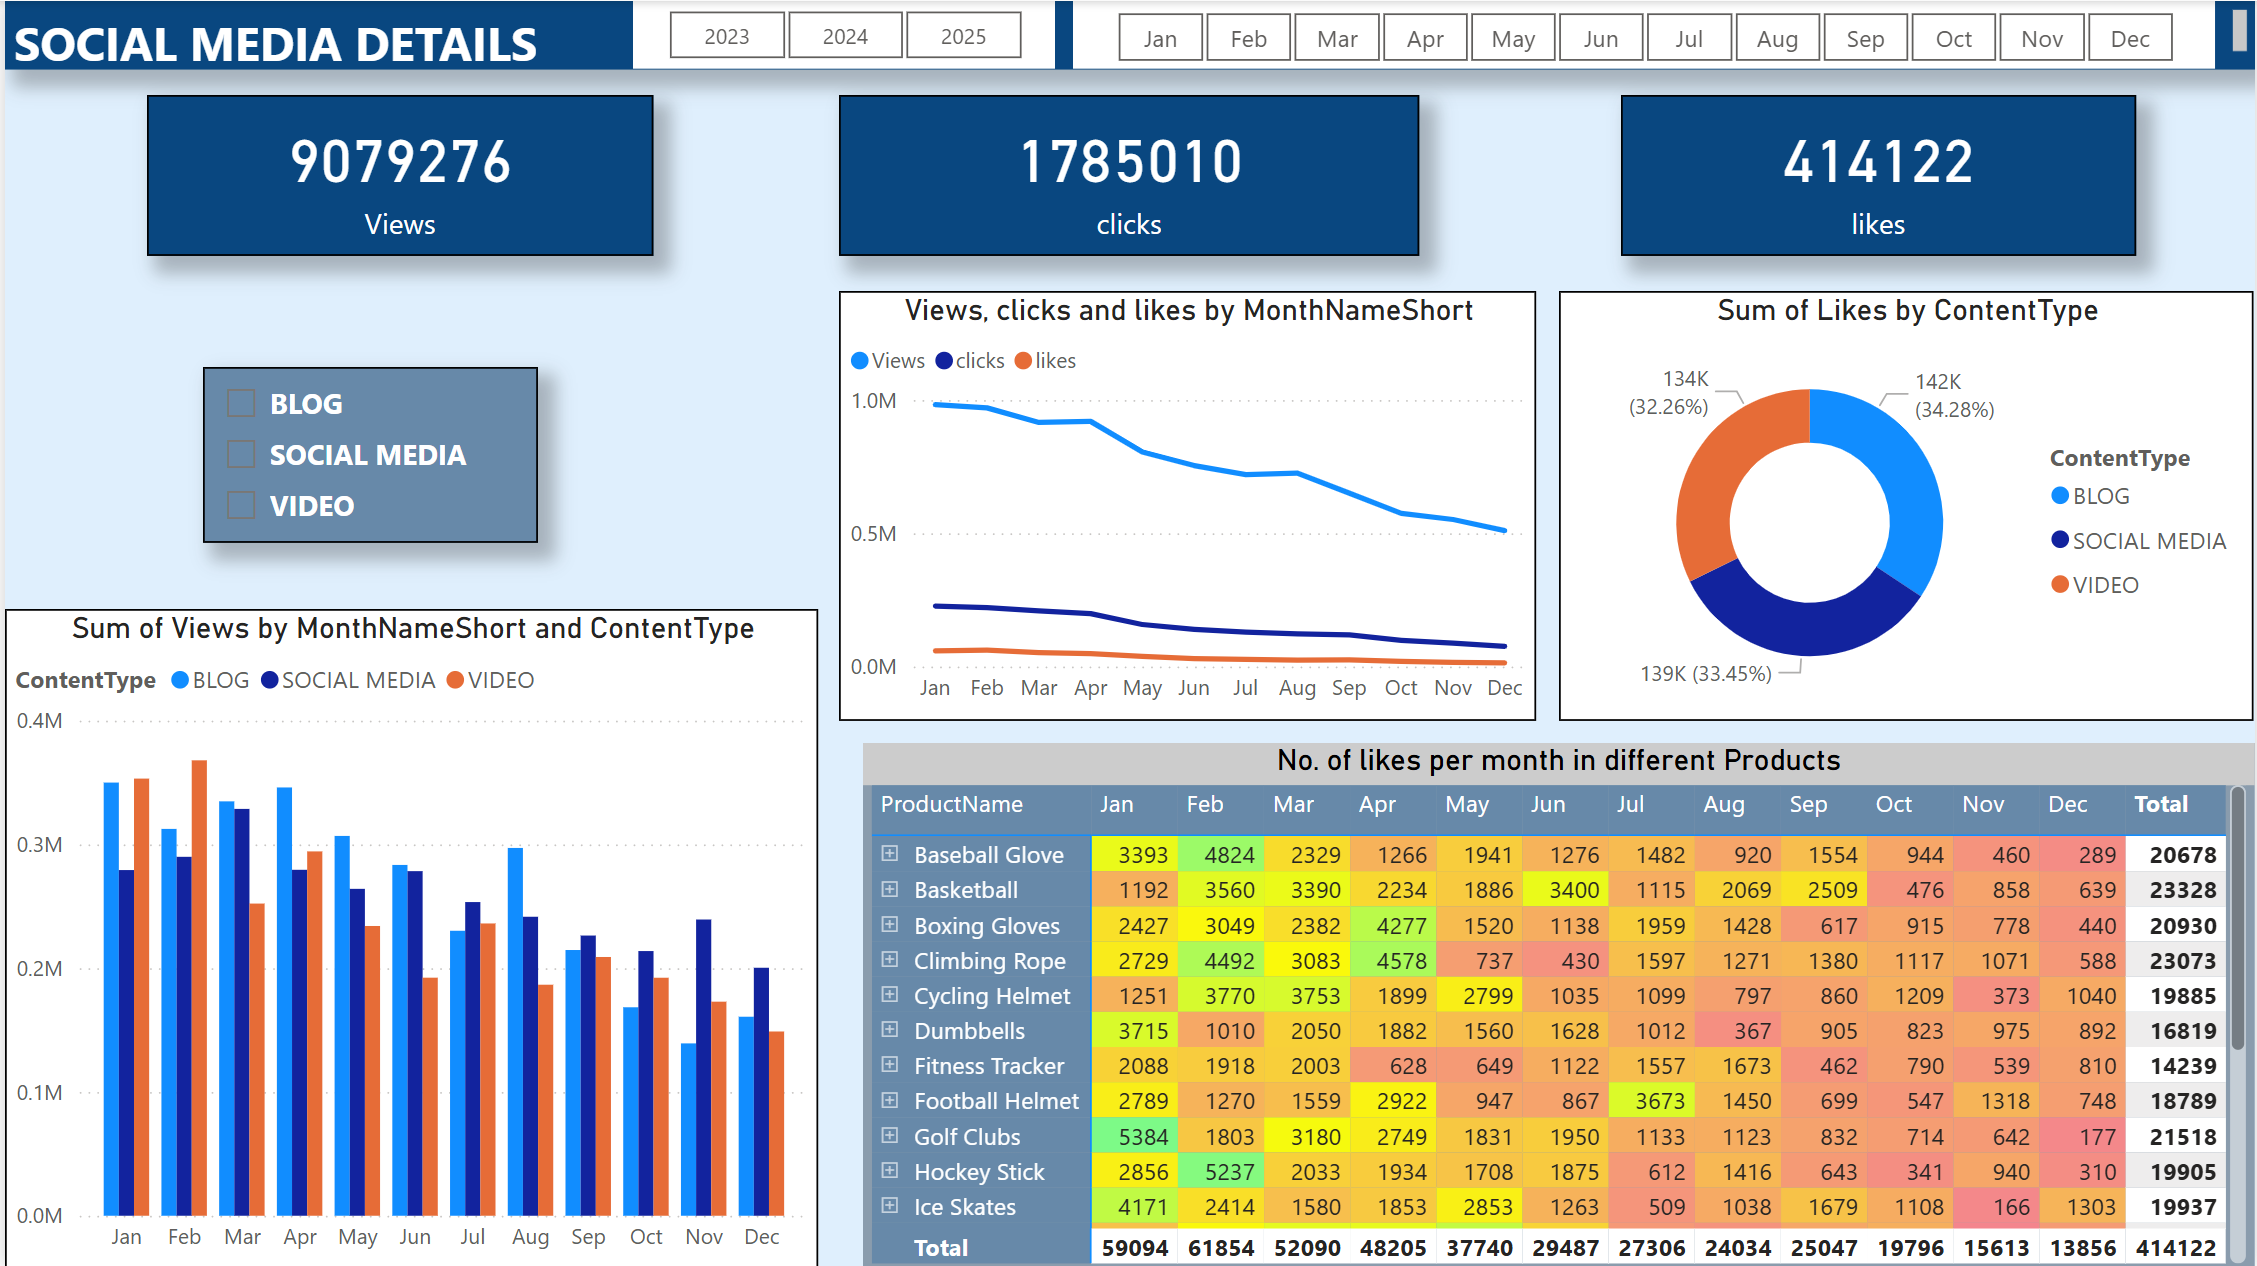

The dashboard page shown, as its layout file describes it:
{"tool":"powerbi","page":{"name":"SocialMedia Details","canvas":[1280,720],"ordinal":2},"visuals":[{"type":"textbox","box":[0,0,1280,38.8],"z":0},{"type":"slicer","fields":{"Values":["Fact_engagement_data.ContentType"]},"box":[112,208.4,190.4,100],"z":1000},{"type":"card","fields":{"Values":["Calcultions_Measures.Views"]},"box":[80.7,53,288,91.6],"z":2000},{"type":"card","fields":{"Values":["Calcultions_Measures.clicks"]},"box":[474.7,53,330.1,91.6],"z":3000},{"type":"card","fields":{"Values":["Calcultions_Measures.likes"]},"box":[919.3,53,292.8,91.6],"z":4000},{"type":"slicer","fields":{"Values":["Calendar.Year"]},"box":[356.6,0,239.8,38.6],"z":5000},{"type":"slicer","fields":{"Values":["Calendar.MonthNameShort"]},"box":[607.2,0,649.4,38.6],"z":6000},{"type":"clusteredColumnChart","fields":{"Series":["Fact_engagement_data.ContentType"],"Category":["Calendar.MonthNameShort"],"Y":["Sum(Fact_engagement_data.Views)"]},"box":[0,345.8,462.7,375.9],"z":7000},{"type":"pivotTable","title":"No. of likes per month in different Products","fields":{"Rows":["dim_products.ProductName","Fact_engagement_data.ContentType"],"Columns":["Calendar.MonthNameShort"],"Values":["Sum(Fact_engagement_data.Likes)"]},"box":[488,421.7,791.6,301.2],"z":8000},{"type":"donutChart","fields":{"Category":["Fact_engagement_data.ContentType"],"Y":["Sum(Fact_engagement_data.Likes)"]},"box":[884.3,165.1,395.2,244.6],"z":9000},{"type":"lineChart","fields":{"Y":["Calcultions_Measures.Views","Calcultions_Measures.clicks","Calcultions_Measures.likes"],"Category":["Calendar.MonthNameShort"]},"box":[474.7,165.1,396.4,244.6],"z":10000}]}

Visuals, with their boxes in screenshot pixels (x1, y1, x2, y2), scaled from the page's 1280x720 canvas onto the 2257x1266 screenshot:
textbox: [left=0, top=0, right=2256, bottom=68]
slicer - Fact_engagement_data.ContentType: [left=197, top=366, right=533, bottom=542]
card - Calcultions_Measures.Views: [left=142, top=93, right=650, bottom=254]
card - Calcultions_Measures.clicks: [left=837, top=93, right=1419, bottom=254]
card - Calcultions_Measures.likes: [left=1621, top=93, right=2137, bottom=254]
slicer - Calendar.Year: [left=629, top=0, right=1052, bottom=68]
slicer - Calendar.MonthNameShort: [left=1071, top=0, right=2216, bottom=68]
clusteredColumnChart - Fact_engagement_data.ContentType x Calendar.MonthNameShort: [left=0, top=608, right=816, bottom=1265]
"No. of likes per month in different Products" pivotTable: [left=860, top=741, right=2256, bottom=1265]
donutChart - Fact_engagement_data.ContentType x Sum(Fact_engagement_data.Likes): [left=1559, top=290, right=2256, bottom=720]
lineChart - Calcultions_Measures.Views x Calcultions_Measures.clicks: [left=837, top=290, right=1536, bottom=720]
